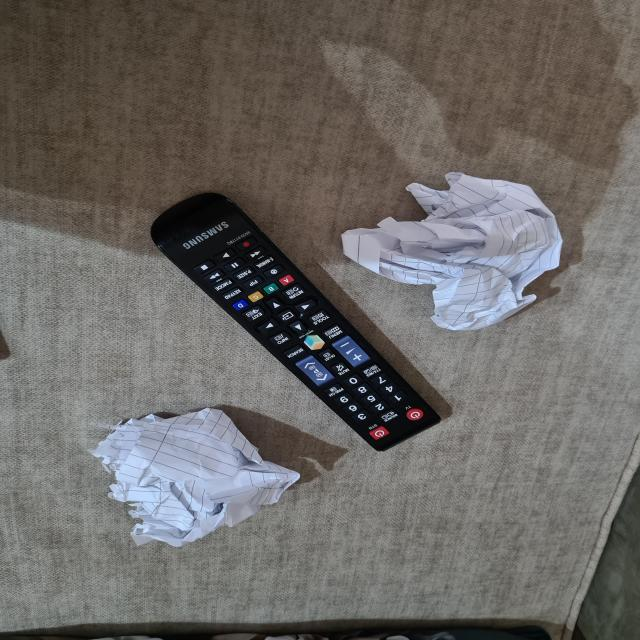kertas: (338, 163, 564, 330), (94, 407, 308, 542)
